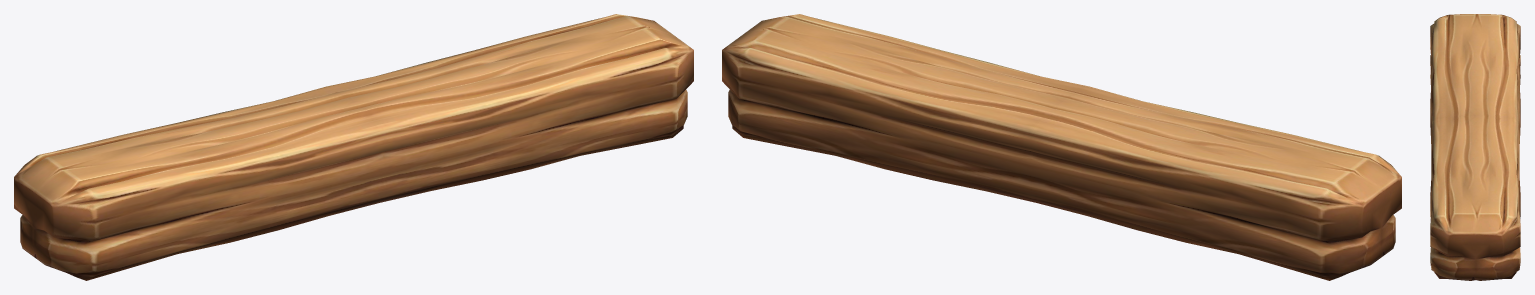
The model's file is fence_beam.glb.
The picture shows the model from 3 angles, left to right: view 1: azimuth 30°, elevation 25°; view 2: azimuth 150°, elevation 25°; view 3: azimuth 270°, elevation 25°; orthographic projection. The views are drawn at different scales.
Parts seen in each view (by area): view 1: Fence_Beam; view 2: Fence_Beam; view 3: Fence_Beam.
Part boxes in pixels (x1,y1,x2,y2): Fence_Beam: (14, 14, 693, 280); Fence_Beam: (722, 14, 1401, 280); Fence_Beam: (1430, 14, 1520, 280).
Bounding box in the file's own units: 0.98 × 0.1341 × 0.1705.
Materials: 1 (1 with a texture image).
